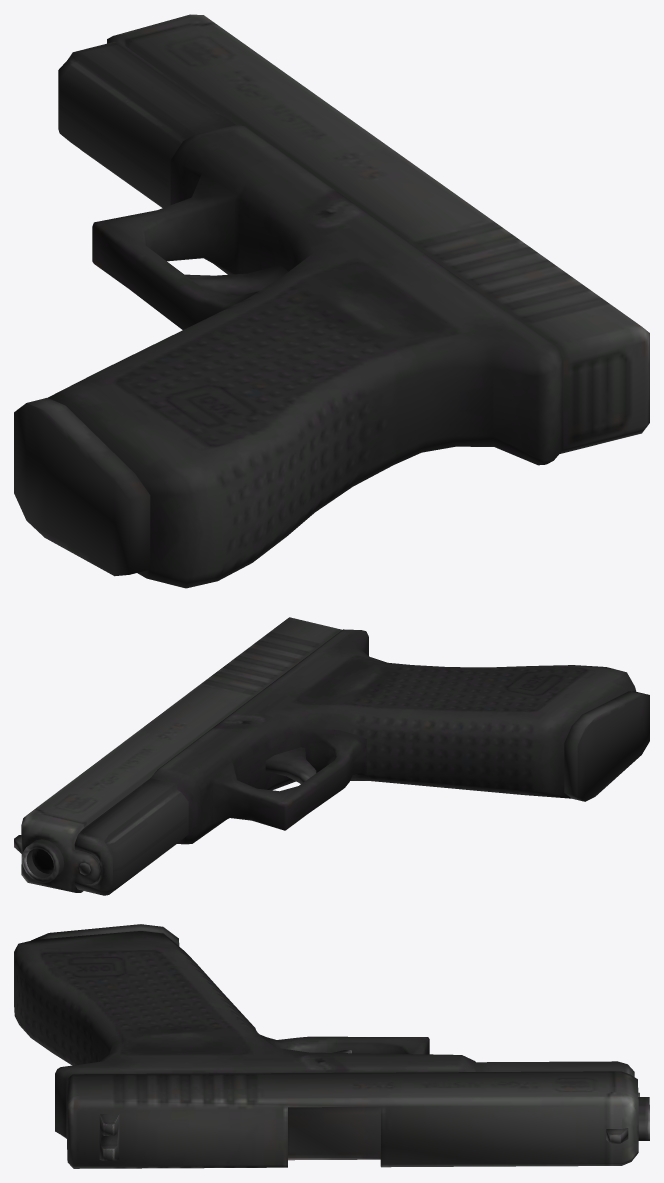
File: Weapon_Pistol_01.fbx
3 views of the same model, one above another, from view 1: azimuth 30°, elevation 25°; view 2: azimuth 150°, elevation 25°; view 3: azimuth 270°, elevation 25° (orthographic). The views are drawn at different scales.
Visible parts, largest first — view 1: Pistol_01; view 2: Pistol_01; view 3: Pistol_01.
Boxes of the visible parts, <box> form: Pistol_01: <box>14,14,649,588</box>; Pistol_01: <box>14,617,649,895</box>; Pistol_01: <box>14,924,649,1168</box>.
Size of the model in its own units: 0.1733 by 0.0368 by 0.2613.
1 material, 1 textured.
